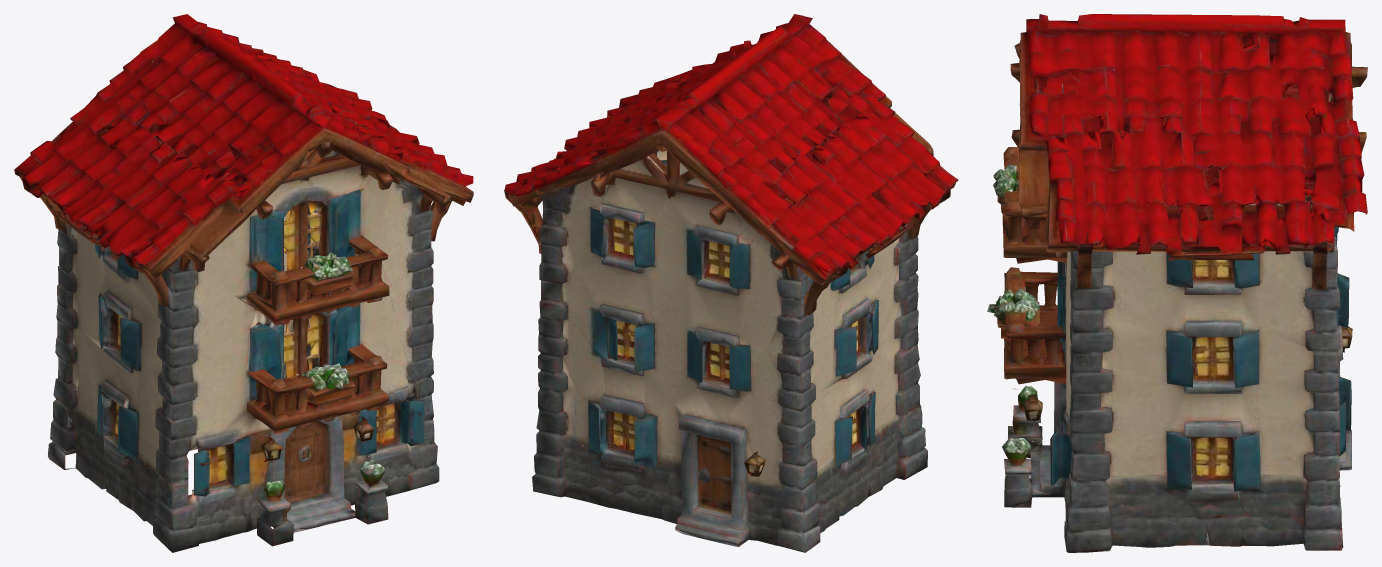
The model's file is candidate.glb.
3 views of the same model, side by side, from view 1: azimuth 30°, elevation 25°; view 2: azimuth 150°, elevation 25°; view 3: azimuth 270°, elevation 25° (orthographic). The views are drawn at different scales.
Parts seen in each view (by area): view 1: alpine__tower_3__native_mobile; view 2: alpine__tower_3__native_mobile; view 3: alpine__tower_3__native_mobile.
Part boxes in pixels (box(x1,y1,x2,y2)): alpine__tower_3__native_mobile: box(14, 14, 473, 552); alpine__tower_3__native_mobile: box(504, 14, 958, 552); alpine__tower_3__native_mobile: box(987, 14, 1367, 552).
Size of the model in its own units: 0.8553 by 1 by 0.7369.
Materials: 1 (1 with a texture image).
